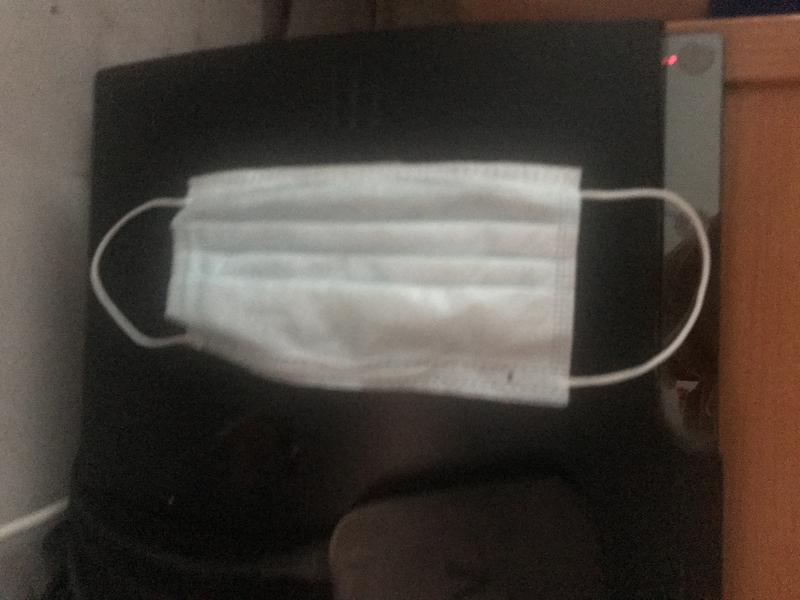medical_mask: (91, 161, 711, 409)
